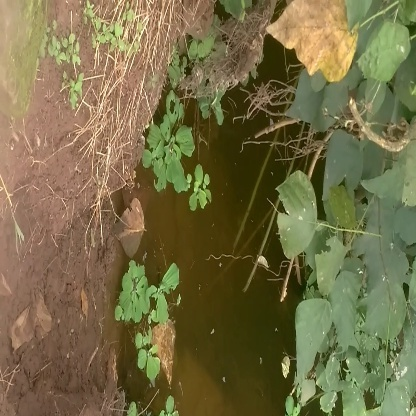leaf: (269, 173, 325, 256)
